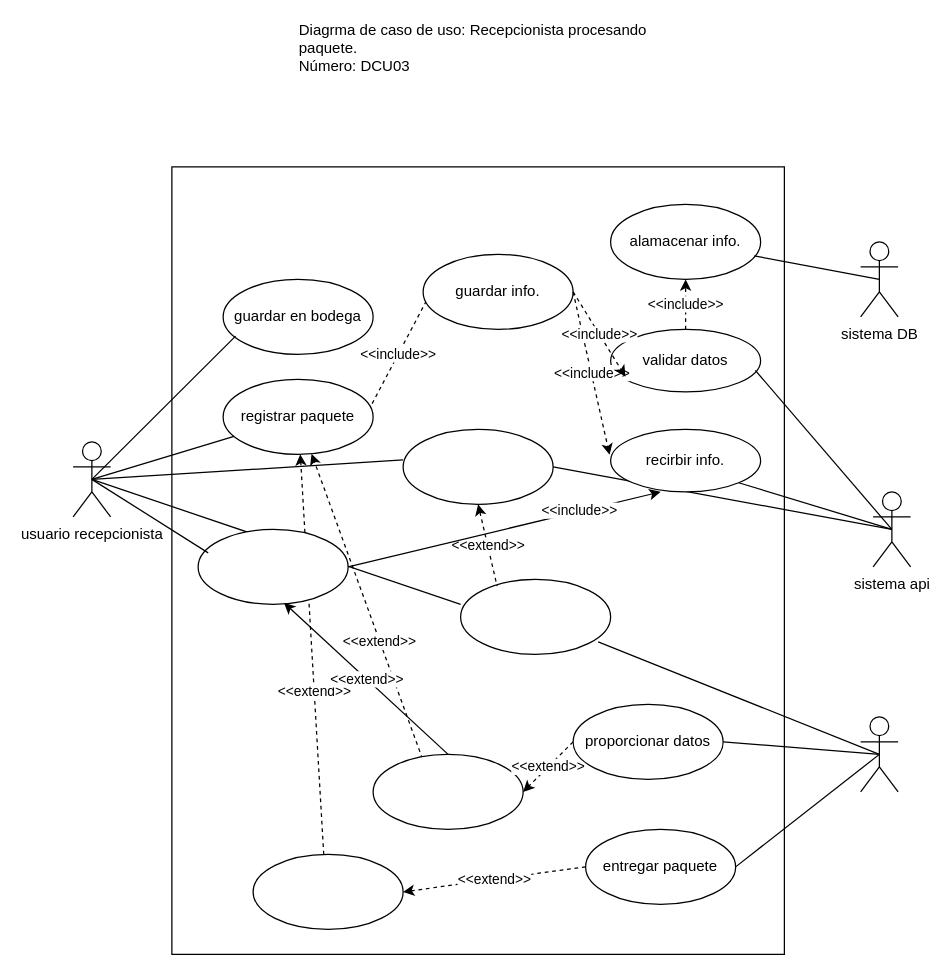
Some shapes in this 951 by 976 pixel diagram are drawn without their labels. The centre of each missing label's shape, as x and y in pixels:
"cliente" belongs at (878,754).
"entregar factura" belongs at (535,616).
"generar factura" belongs at (477,466).
"ingresar datos" belongs at (447,791).
"inisciar sesion" belongs at (272,566).
"pesar paquete" belongs at (327,891).
